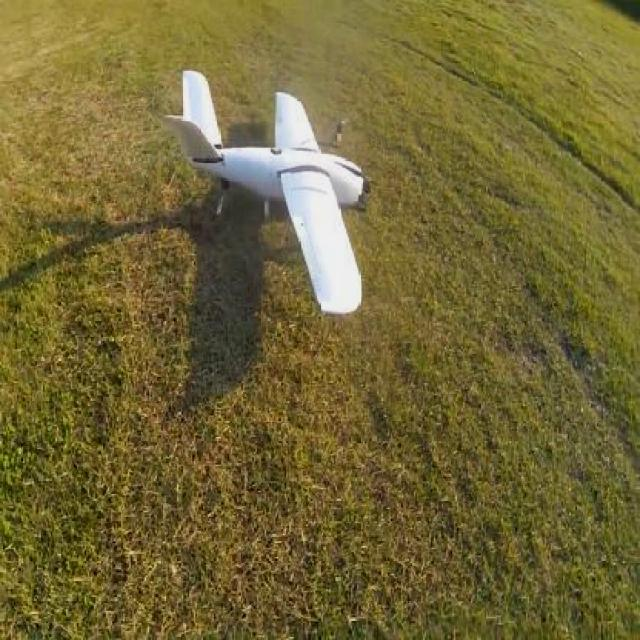iha: (153, 66, 398, 325)
